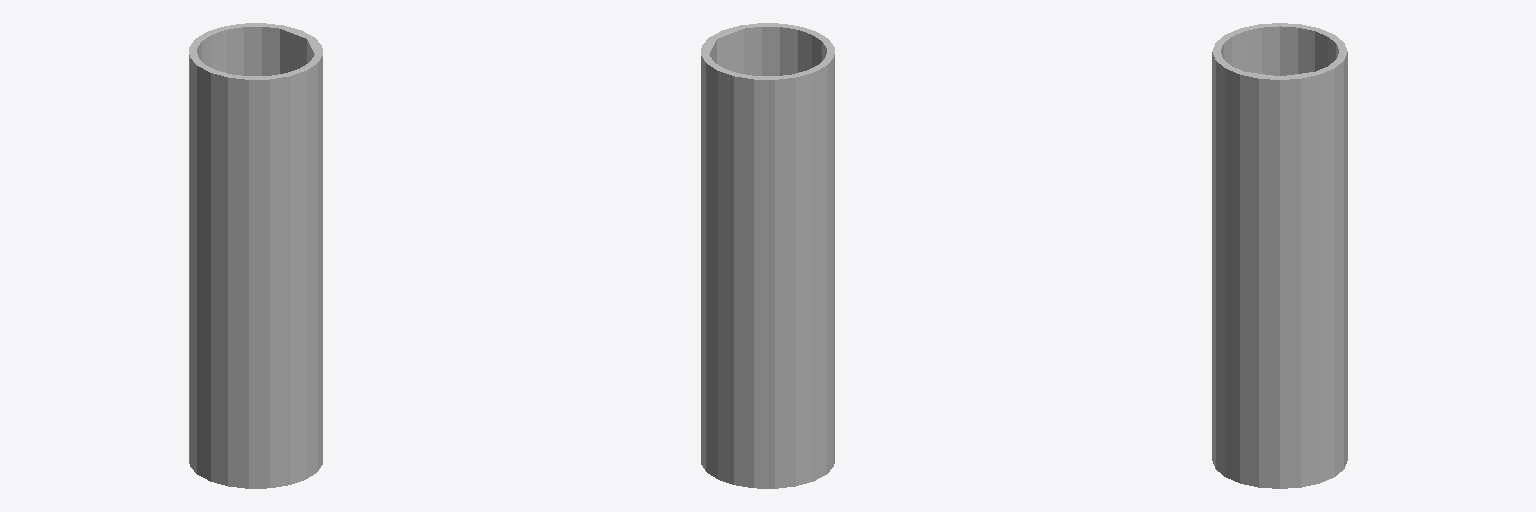
The model's file is pipe.obj.
The picture shows the model from 3 angles: view 1: azimuth 30°, elevation 25°; view 2: azimuth 150°, elevation 25°; view 3: azimuth 270°, elevation 25°; orthographic projection.
Parts seen in each view (by area): view 1: Shape01; view 2: Shape01; view 3: Shape01.
Part boxes in pixels (x1,y1,x2,y2): Shape01: (189, 23, 322, 488); Shape01: (701, 23, 834, 488); Shape01: (1212, 23, 1347, 488).
Bounding box in the file's own units: 19.59 × 65.32 × 19.59.